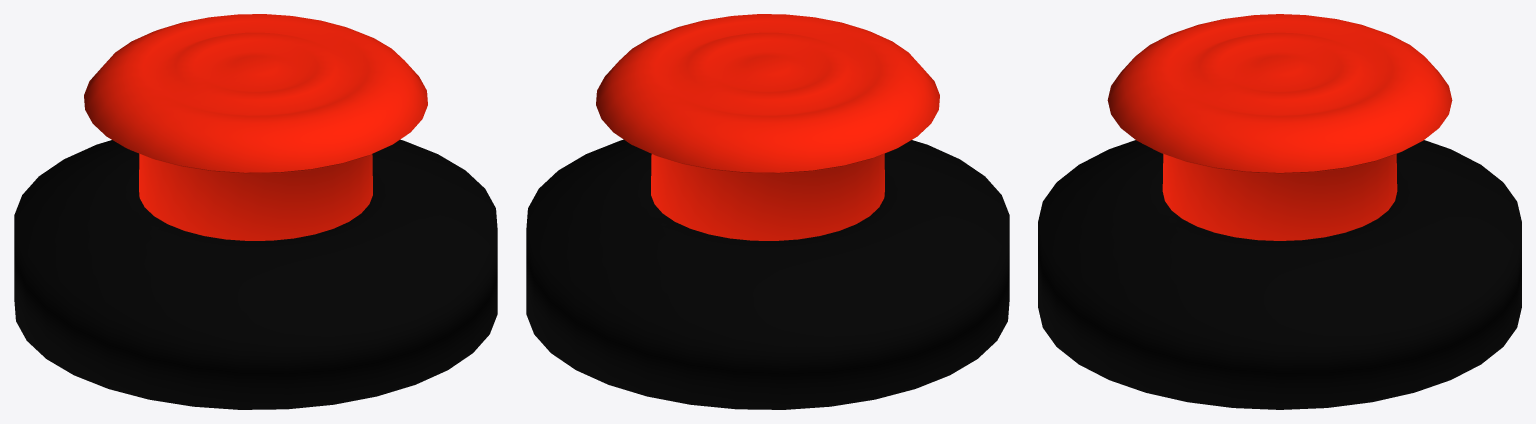
Rendered from BluePushButton.fbx.
3 views of the same model, side by side, from view 1: azimuth 30°, elevation 25°; view 2: azimuth 150°, elevation 25°; view 3: azimuth 270°, elevation 25° (orthographic).
Visible parts, largest first — view 1: ButtonBase, ButtonTop; view 2: ButtonBase, ButtonTop; view 3: ButtonBase, ButtonTop.
Boxes of the visible parts, box(x1,y1,x2,y2) form: ButtonBase: box(14, 139, 497, 409); ButtonTop: box(84, 14, 427, 240); ButtonBase: box(526, 139, 1009, 409); ButtonTop: box(596, 14, 939, 240); ButtonBase: box(1038, 140, 1521, 409); ButtonTop: box(1107, 14, 1452, 240).
Size of the model in its own units: 20.08 by 11.1 by 20.08.
